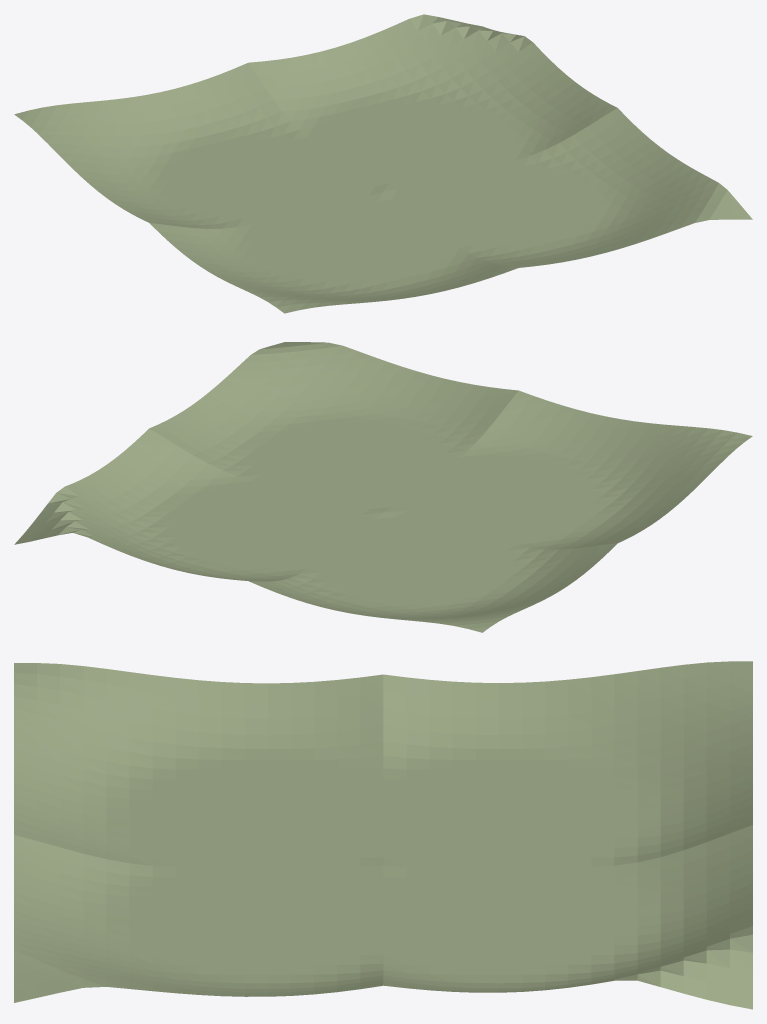
Rendered from gardens-0-3.glb.
3 views of the same model, one above another, from view 1: azimuth 30°, elevation 25°; view 2: azimuth 150°, elevation 25°; view 3: azimuth 270°, elevation 25° (orthographic). The views are drawn at different scales.
Visible parts, largest first — view 1: gardens-0-3; view 2: gardens-0-3; view 3: gardens-0-3.
Boxes of the visible parts, x1,y1,x2,y2 form: gardens-0-3: [14, 14, 752, 313]; gardens-0-3: [14, 342, 752, 632]; gardens-0-3: [14, 661, 752, 1009].
Size of the model in its own units: 256 by 19.17 by 256.
